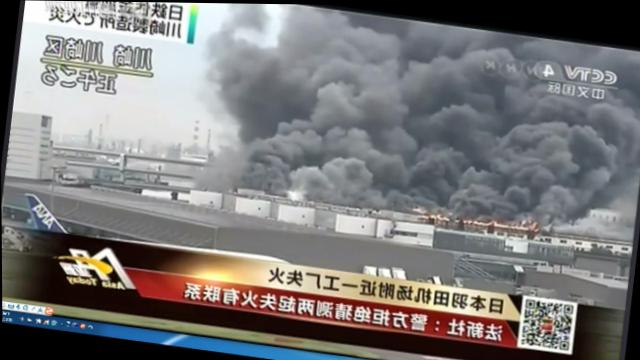smoke: (201, 46, 481, 214), (467, 88, 639, 236), (221, 3, 492, 81), (492, 29, 639, 73)
